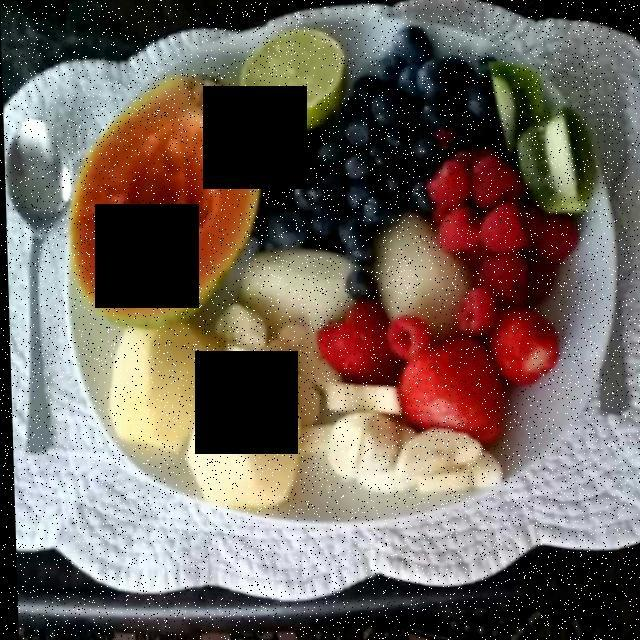fruit-salad: (64, 27, 608, 518)
